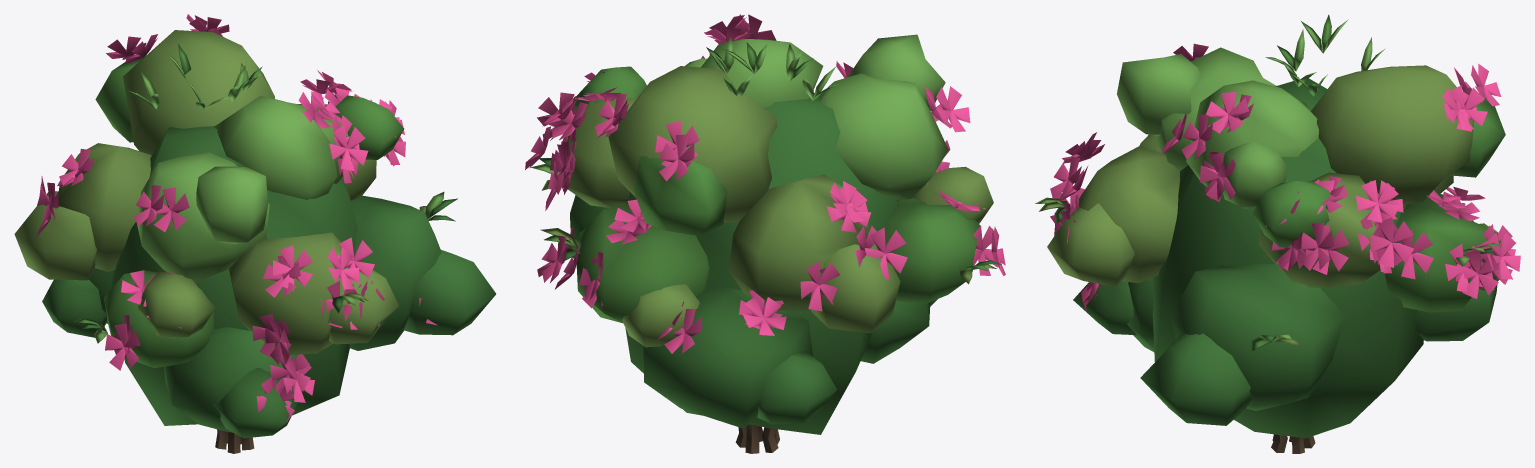
File: azalea.glb
3 views of the same model, side by side, from view 1: azimuth 30°, elevation 25°; view 2: azimuth 150°, elevation 25°; view 3: azimuth 270°, elevation 25° (orthographic). The views are drawn at different scales.
Parts seen in each view (by area): view 1: azalea, sprigs; view 2: azalea, sprigs; view 3: azalea, sprigs.
Boxes of the visible parts, bbox=[...] form: azalea: bbox=[14, 14, 495, 453]; sprigs: bbox=[126, 44, 262, 110]; azalea: bbox=[525, 14, 1005, 453]; sprigs: bbox=[706, 37, 838, 100]; azalea: bbox=[1035, 43, 1520, 453]; sprigs: bbox=[1265, 14, 1385, 96].
Bounding box in the file's own units: 1.16 × 1.04 × 1.15.
